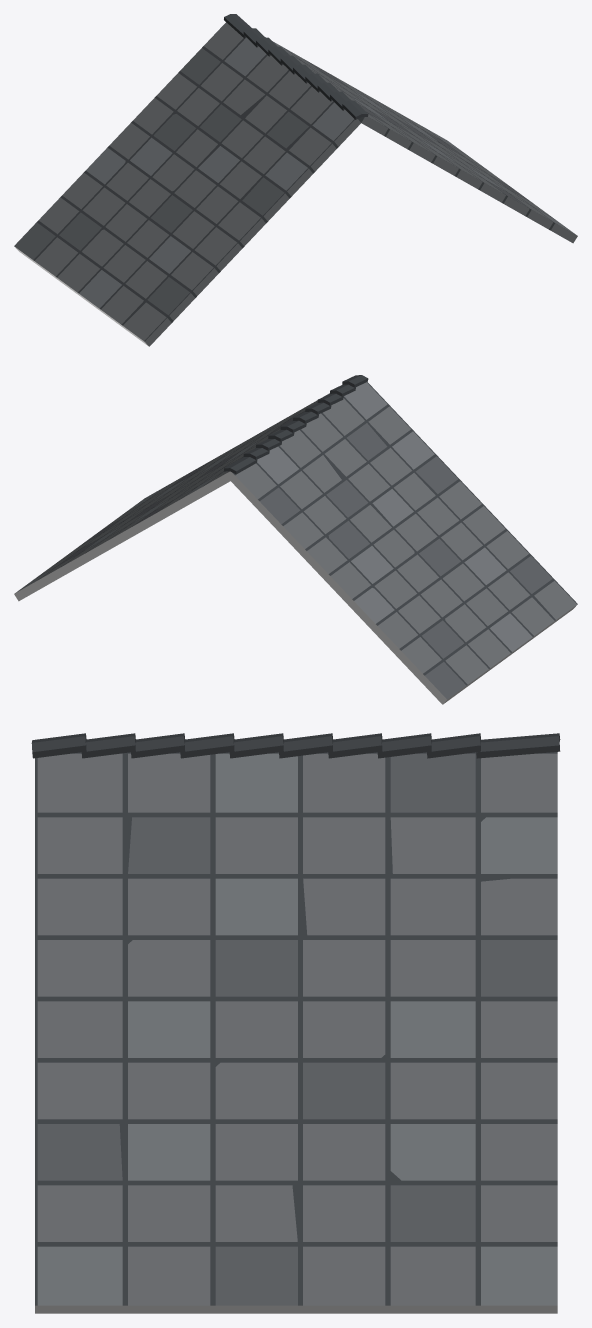
The model's file is Roof1_C8_03.fbx.
3 views of the same model, one above another, from view 1: azimuth 30°, elevation 25°; view 2: azimuth 150°, elevation 25°; view 3: azimuth 270°, elevation 25° (orthographic). The views are drawn at different scales.
Parts seen in each view (by area): view 1: Roof1_C8_03; view 2: Roof1_C8_03; view 3: Roof1_C8_03.
Part boxes in pixels (box(x1,y1,x2,y2)): Roof1_C8_03: box(14, 14, 577, 346); Roof1_C8_03: box(14, 375, 577, 704); Roof1_C8_03: box(31, 733, 560, 1313).
Bounding box in the file's own units: 565 × 231 × 298.
